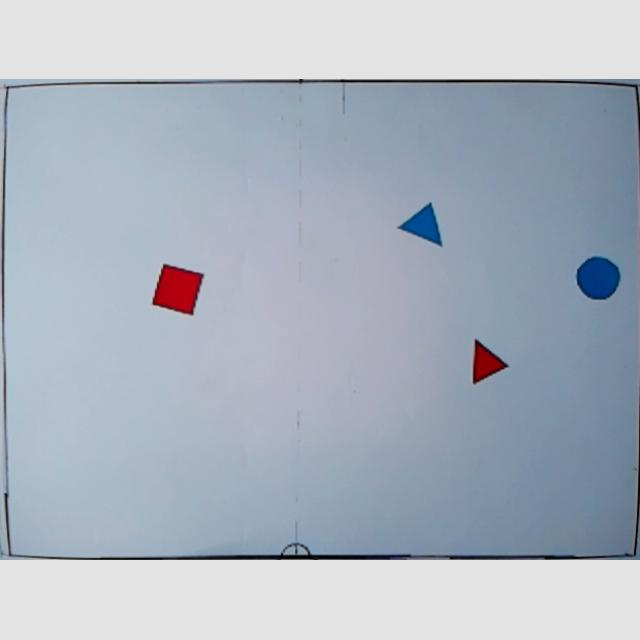blueCircle: (574, 256, 620, 304)
blueTriangle: (398, 200, 444, 252)
redSquare: (152, 262, 206, 320)
redTriangle: (467, 338, 508, 388)
